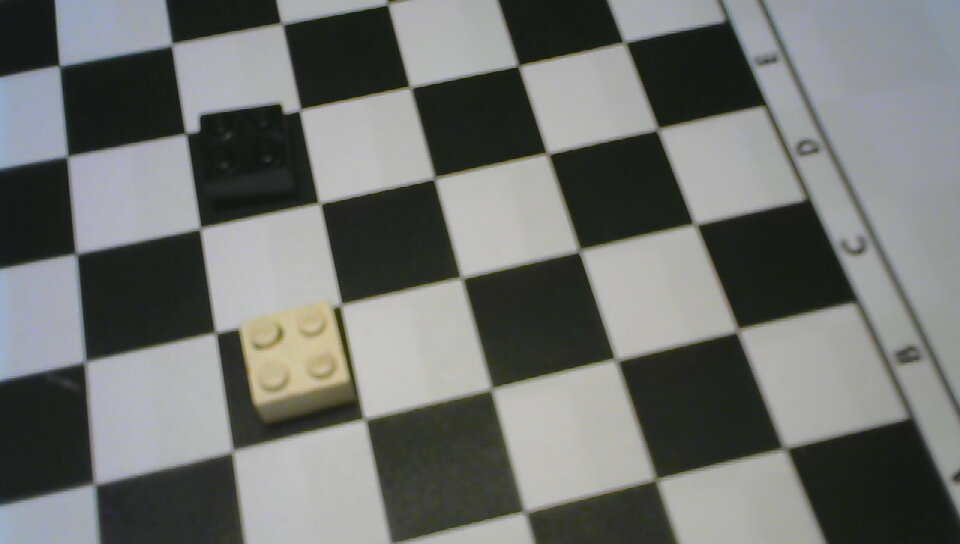bp: (193, 101, 300, 210)
